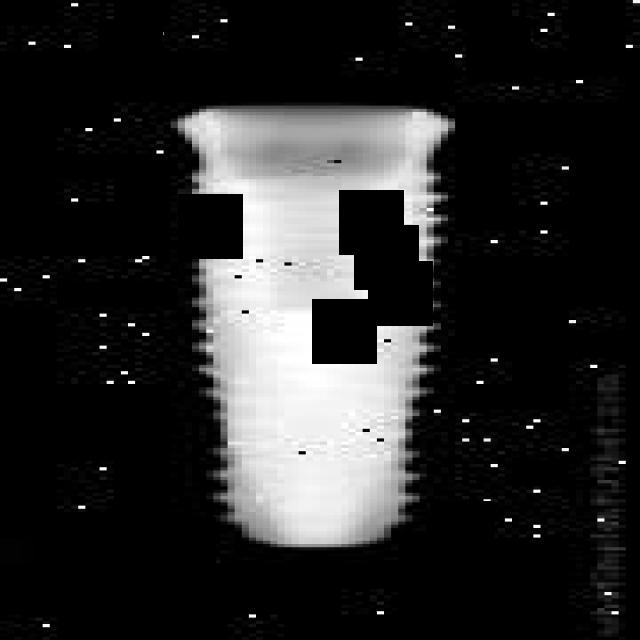Titan Implant Implant: (171, 106, 455, 550)
